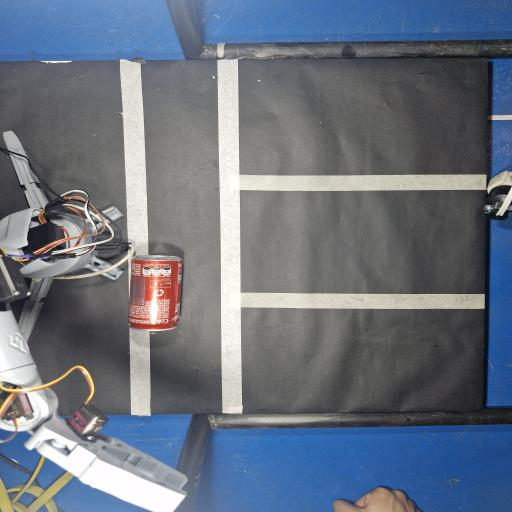lata: (129, 255, 182, 332)
